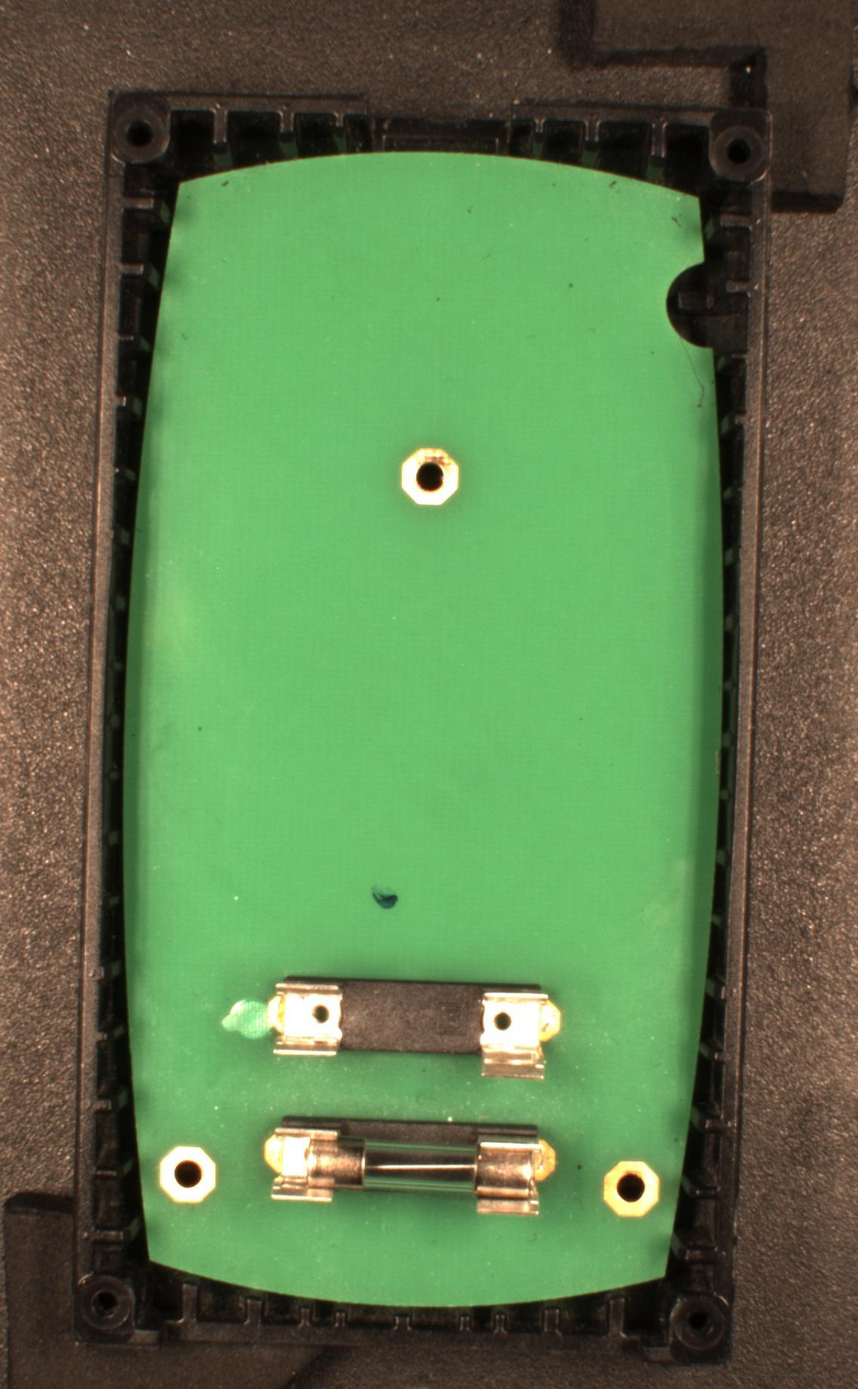Nepostojanje osiguraca: (266, 970, 566, 1081)
Tockasto Ostecenje: (368, 883, 405, 914)
